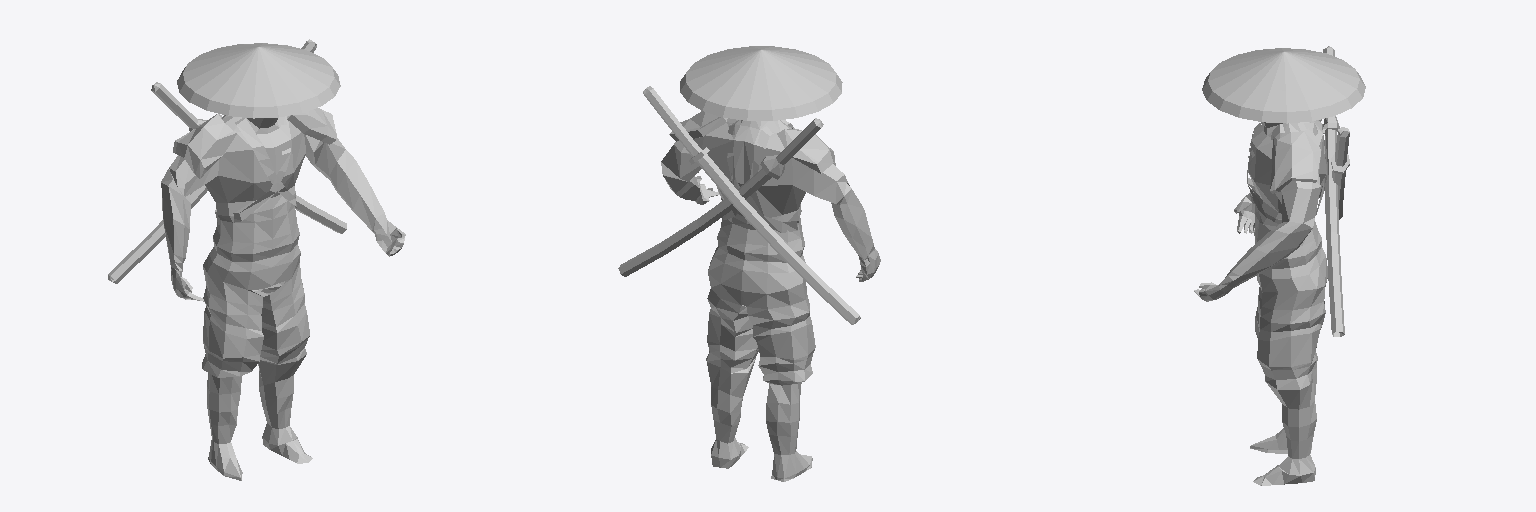
The model's file is warrior1.obj.
3 renders of one model, left to right at view 1: azimuth 30°, elevation 25°; view 2: azimuth 150°, elevation 25°; view 3: azimuth 270°, elevation 25°, orthographic.
Parts seen in each view (by area): view 1: warrior:group warrior:pasted__polySurface72 warrior:polySurface2; view 2: warrior:group warrior:pasted__polySurface72 warrior:polySurface2; view 3: warrior:group warrior:pasted__polySurface72 warrior:polySurface2.
Part boxes in pixels (x1,y1,x2,y2): warrior:group warrior:pasted__polySurface72 warrior:polySurface2: (108, 39, 405, 480); warrior:group warrior:pasted__polySurface72 warrior:polySurface2: (618, 46, 880, 481); warrior:group warrior:pasted__polySurface72 warrior:polySurface2: (1194, 46, 1365, 485).
Size of the model in its own units: 0.8026 by 1.33 by 0.5016.